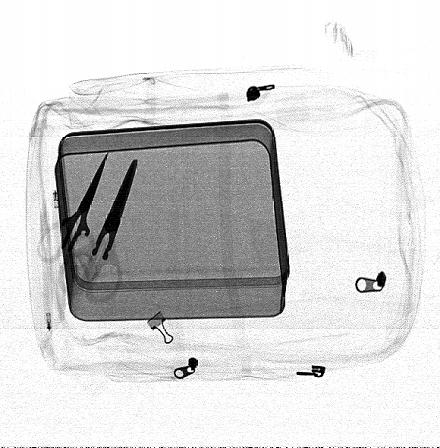Scissors: (57, 157, 139, 305), (34, 150, 113, 289)
